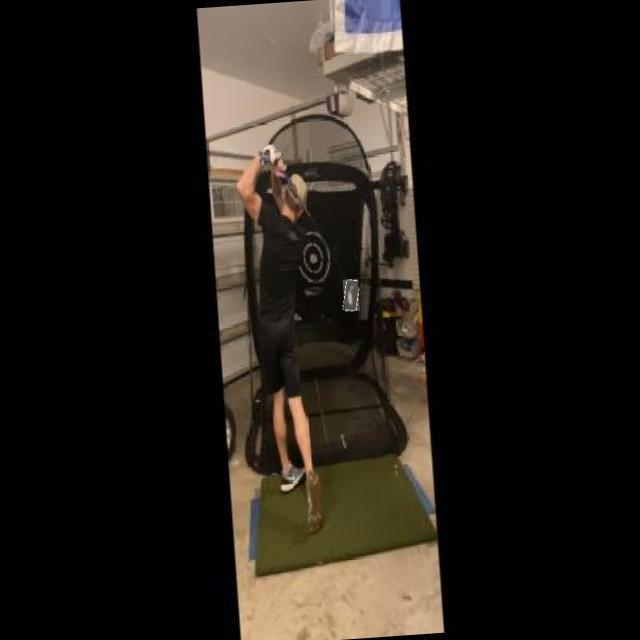club head: (342, 278, 360, 312)
